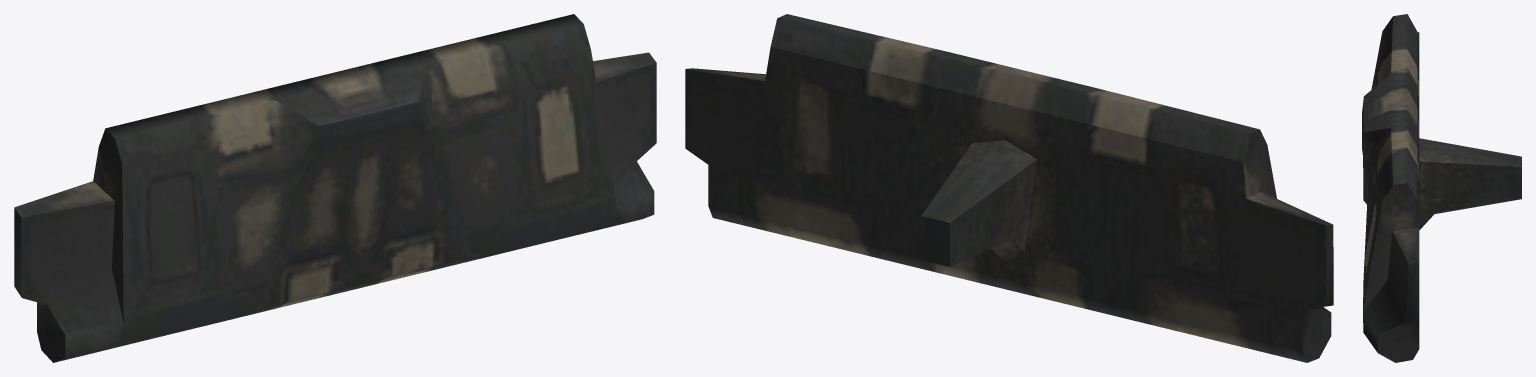
The picture shows the model from 3 angles, left to right: view 1: azimuth 30°, elevation 25°; view 2: azimuth 150°, elevation 25°; view 3: azimuth 270°, elevation 25°; orthographic projection. The views are drawn at different scales.
Visible parts, largest first — view 1: set_0_group_0; view 2: set_0_group_0; view 3: set_0_group_0.
Boxes of the visible parts, bbox=[...] form: set_0_group_0: bbox=[14, 14, 656, 362]; set_0_group_0: bbox=[685, 14, 1333, 362]; set_0_group_0: bbox=[1362, 14, 1521, 362].
Size of the model in its own units: 0.6508 by 0.2095 by 0.192.
Materials: 1 (1 with a texture image).
